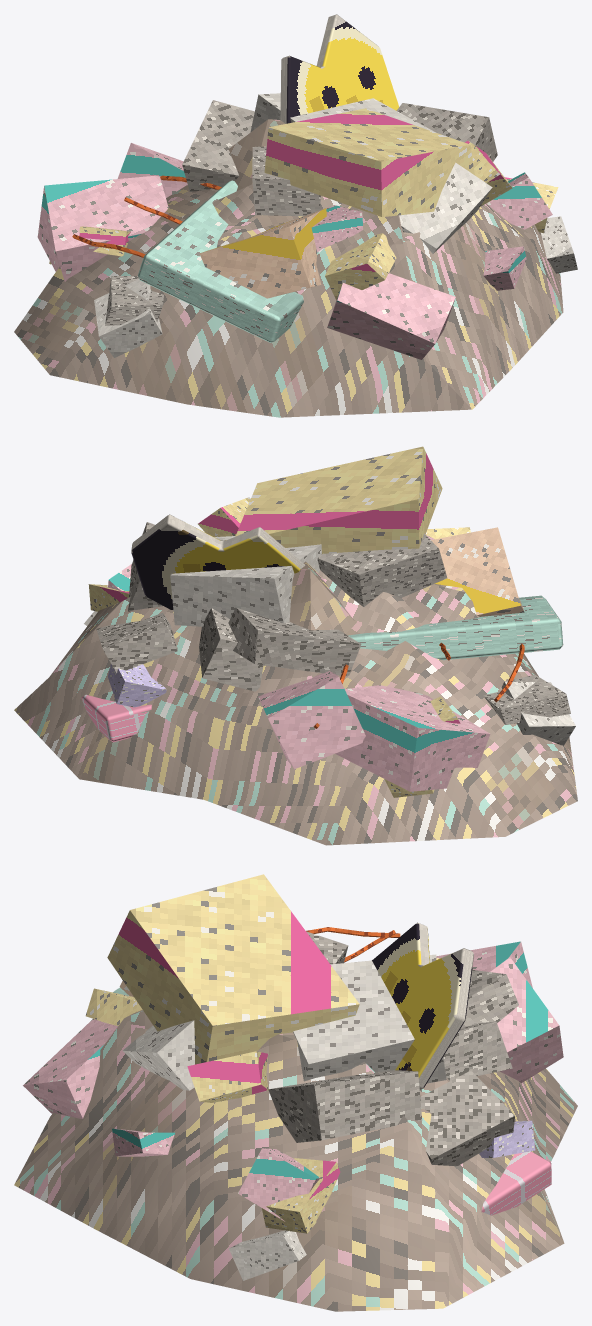
File: s_rubble_a.glb
The picture shows the model from 3 angles, top to bottom: view 1: azimuth 30°, elevation 25°; view 2: azimuth 150°, elevation 25°; view 3: azimuth 270°, elevation 25°; orthographic projection. The views are drawn at different scales.
Visible parts, largest first — view 1: s_rubble_a_mesh; view 2: s_rubble_a_mesh; view 3: s_rubble_a_mesh.
Part boxes in pixels (x1,y1,x2,y2): s_rubble_a_mesh: (14,14,577,417); s_rubble_a_mesh: (14,446,577,845); s_rubble_a_mesh: (14,874,577,1311).
Size of what is drawn, in the model's own units: 3 by 1.33 by 2.52.
3 materials, 3 textured.
